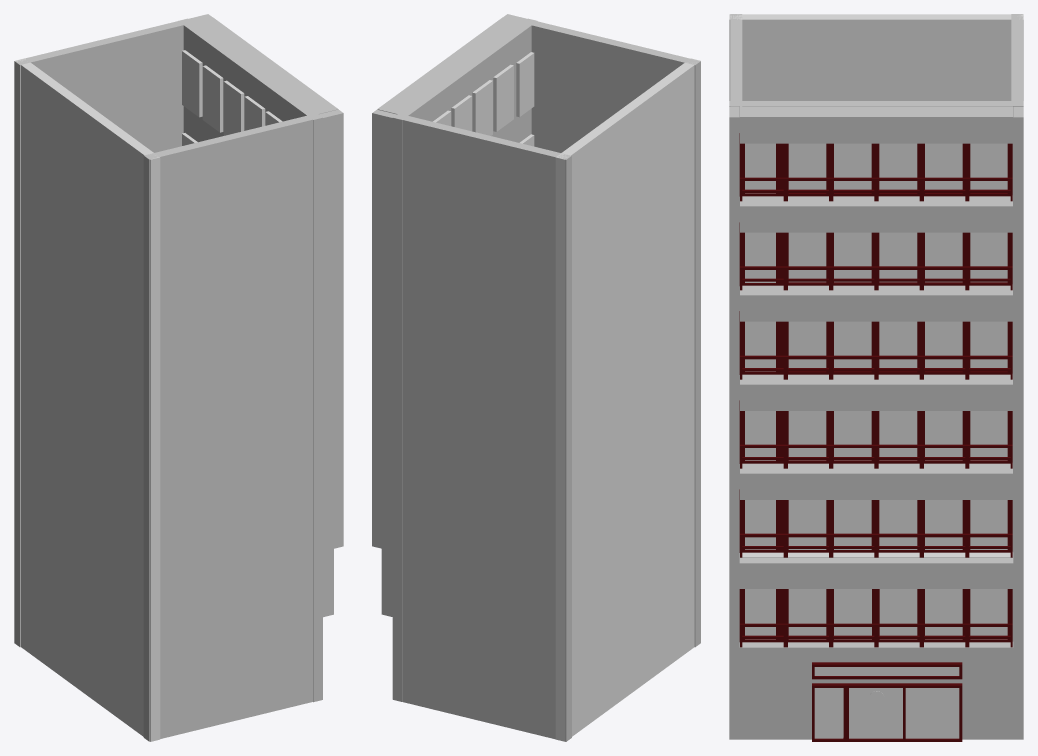
The model's file is Edificio2.fbx.
3 renders of one model, left to right at view 1: azimuth 30°, elevation 25°; view 2: azimuth 150°, elevation 25°; view 3: azimuth 270°, elevation 25°, orthographic. The views are drawn at different scales.
Visible parts, largest first — view 1: Cube.476, Cube.477, Cube.484, Cube.475, Cube.501, Cube.491; view 2: Cube.475, Cube.477, Cube.484, Cube.476, Cube.501, Cube.491, Cube.502; view 3: Cube.484, Cube.477, Cube.491, Cube.490, Cube.489, Cube.487, Cube.488, Cube.482, Cube.492, Cube.495, Cube.498, Cube.501 (+34 smaller).
Boxes of the visible parts, bbox=[...] form: Cube.476: bbox=[143, 113, 322, 741]; Cube.477: bbox=[15, 58, 160, 741]; Cube.484: bbox=[178, 14, 343, 702]; Cube.475: bbox=[14, 21, 183, 647]; Cube.501: bbox=[182, 50, 282, 135]; Cube.491: bbox=[193, 17, 338, 114]; Cube.475: bbox=[402, 116, 571, 741]; Cube.477: bbox=[555, 58, 700, 741]; Cube.484: bbox=[372, 14, 537, 701]; Cube.476: bbox=[522, 19, 700, 647]; Cube.501: bbox=[433, 64, 513, 135]; Cube.491: bbox=[377, 17, 522, 114]; Cube.502: bbox=[516, 52, 534, 117]; Cube.484: bbox=[729, 101, 1023, 739]; Cube.477: bbox=[729, 14, 1023, 100]; Cube.491: bbox=[740, 106, 1012, 143]; Cube.490: bbox=[740, 195, 1012, 232]; Cube.489: bbox=[740, 284, 1012, 321]; Cube.487: bbox=[740, 463, 1012, 499]; Cube.488: bbox=[740, 374, 1012, 410]; Cube.482: bbox=[788, 589, 1007, 639]; Cube.492: bbox=[788, 500, 1007, 549]; Cube.495: bbox=[788, 411, 1007, 460]; Cube.498: bbox=[788, 321, 1007, 367]; Cube.501: bbox=[788, 143, 1007, 189].
Bounding box in the file's own units: 790 × 2267 × 955.
